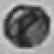correct: (6, 3, 52, 51)
